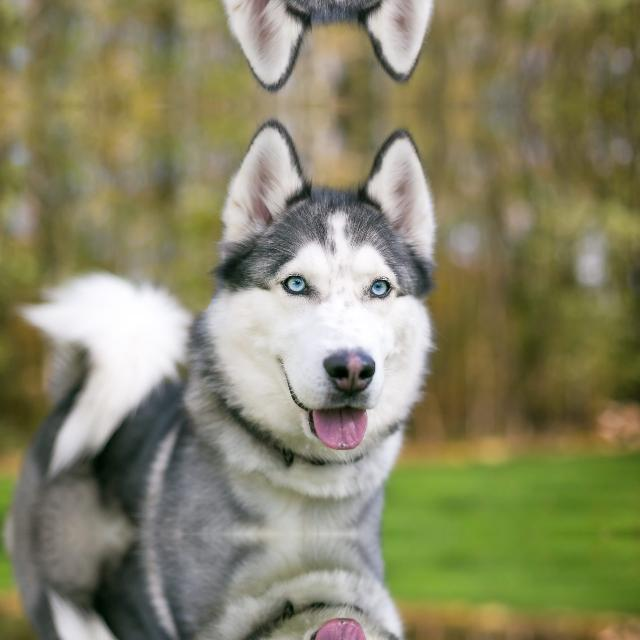dog: (48, 119, 450, 533), (47, 533, 450, 640), (47, 0, 450, 91)
